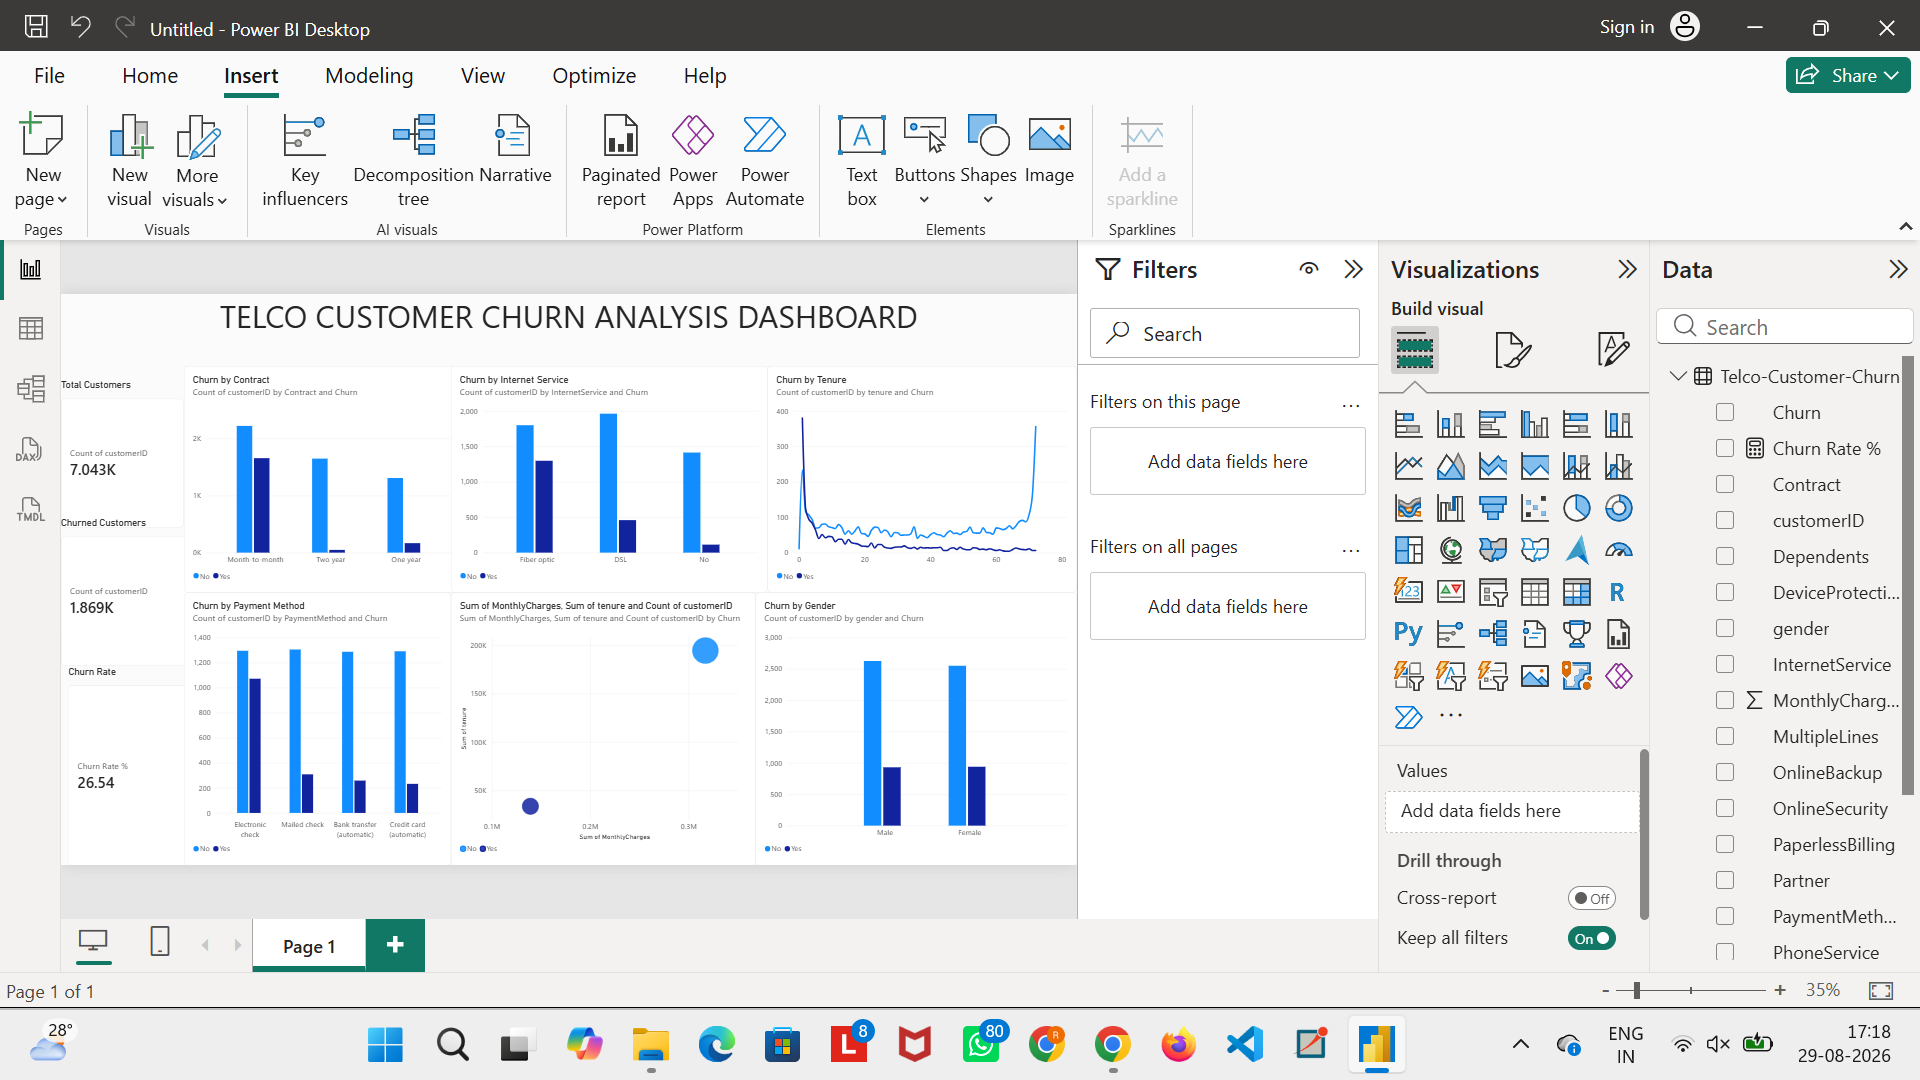

What the dashboard file says about the page in this screenshot:
{"tool":"powerbi","page":{"name":"Page 1","canvas":[1920,1080],"ordinal":0},"visuals":[{"type":"cardVisual","title":"Total Customers","fields":{"Data":["Count(Telco-Customer-Churn.customerID)"]},"box":[0,161.6,232.4,280.6],"z":0},{"type":"cardVisual","title":"Churned Customers","fields":{"Data":["CountNonNull(Telco-Customer-Churn.customerID)"]},"box":[0,422.4,255.1,280.6],"z":1},{"type":"cardVisual","title":"Churn Rate","fields":{"Data":["Telco-Customer-Churn.Churn Rate %"]},"box":[14.2,703,240.9,379.8],"z":2},{"type":"clusteredColumnChart","title":"Churn by Contract","fields":{"Category":["Telco-Customer-Churn.Contract"],"Series":["Telco-Customer-Churn.Churn"],"Y":["CountNonNull(Telco-Customer-Churn.customerID)"]},"box":[232.4,136.1,530.1,428],"z":3},{"type":"clusteredColumnChart","title":"Churn by Internet Service","fields":{"Category":["Telco-Customer-Churn.InternetService"],"Series":["Telco-Customer-Churn.Churn"],"Y":["CountNonNull(Telco-Customer-Churn.customerID)"]},"box":[737,136.1,598.1,428],"z":4},{"type":"lineChart","title":"Churn by Tenure","fields":{"Category":["Telco-Customer-Churn.tenure"],"Series":["Telco-Customer-Churn.Churn"],"Y":["CountNonNull(Telco-Customer-Churn.customerID)"]},"box":[1335.1,136.1,583.9,428],"z":5},{"type":"clusteredColumnChart","title":"Churn by Payment Method","fields":{"Category":["Telco-Customer-Churn.PaymentMethod"],"Series":["Telco-Customer-Churn.Churn"],"Y":["CountNonNull(Telco-Customer-Churn.customerID)"]},"box":[232.4,564.1,504.6,515.9],"z":6},{"type":"scatterChart","title":"Sum of MonthlyCharges, Sum of tenure and Count of customerID","fields":{"Series":["Telco-Customer-Churn.Churn"],"Size":["CountNonNull(Telco-Customer-Churn.customerID)"],"X":["Sum(Telco-Customer-Churn.MonthlyCharges)"],"Y":["Sum(Telco-Customer-Churn.tenure)"]},"box":[737,564.1,575.4,515.9],"z":7},{"type":"clusteredColumnChart","title":"Churn by Gender","fields":{"Category":["Telco-Customer-Churn.gender"],"Series":["Telco-Customer-Churn.Churn"],"Y":["CountNonNull(Telco-Customer-Churn.customerID)"]},"box":[1312.5,564.1,606.6,515.9],"z":8},{"type":"textbox","box":[0,0,1919.1,189.9],"z":9}]}

Visuals, with their boxes on the page's 1920x1080 design canvas (x1, y1, x2, y2). These are canvas units, not pixel positions in the 1920x1080 screenshot, which may show the page scaled, cropped or inside an application window:
"Total Customers" cardVisual: box=[0, 162, 232, 442]
"Churned Customers" cardVisual: box=[0, 422, 255, 703]
"Churn Rate" cardVisual: box=[14, 703, 255, 1083]
"Churn by Contract" clusteredColumnChart: box=[232, 136, 762, 564]
"Churn by Internet Service" clusteredColumnChart: box=[737, 136, 1335, 564]
"Churn by Tenure" lineChart: box=[1335, 136, 1919, 564]
"Churn by Payment Method" clusteredColumnChart: box=[232, 564, 737, 1080]
"Sum of MonthlyCharges, Sum of tenure and Count of customerID" scatterChart: box=[737, 564, 1312, 1080]
"Churn by Gender" clusteredColumnChart: box=[1312, 564, 1919, 1080]
textbox: box=[0, 0, 1919, 190]
